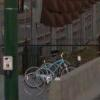Bicycle: (21, 47, 83, 99)
